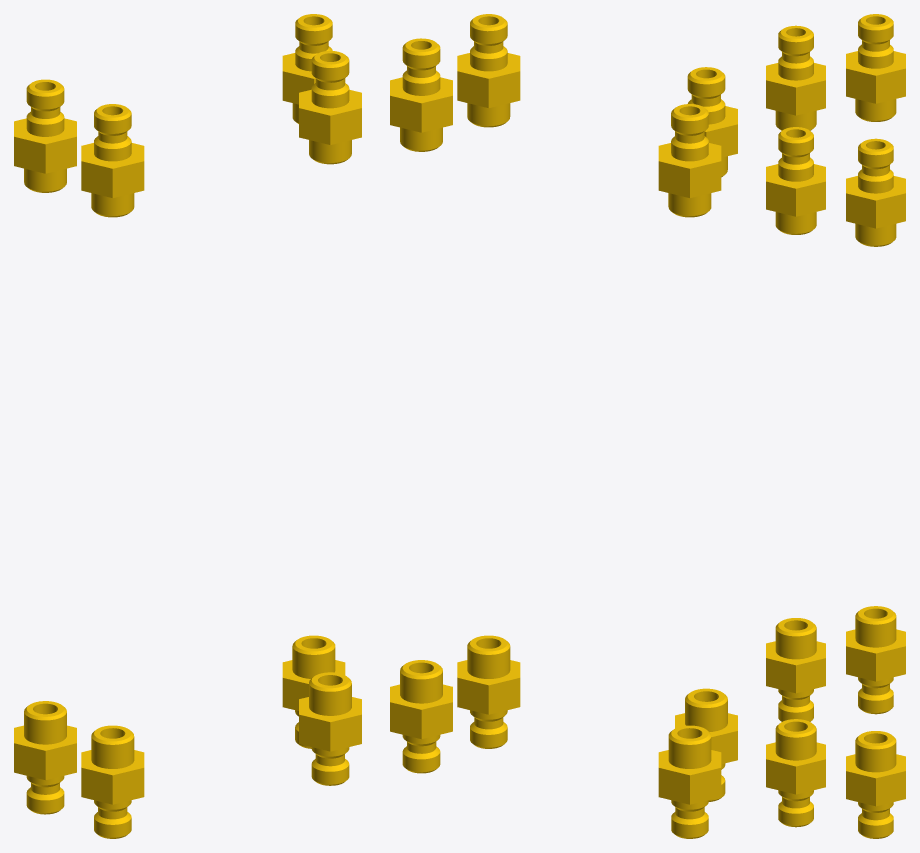
Rendered from connector.glb.
The picture shows the model from 3 angles, left to right: view 1: azimuth 30°, elevation 25°; view 2: azimuth 150°, elevation 25°; view 3: azimuth 270°, elevation 25°; orthographic projection. The views are drawn at different scales.
Visible parts, largest first — view 1: Button_connector_078 (×2), Button_connector_079 (×2), Button_connector_080 (×2), Button_connector_081 (×2); view 2: Button_connector_080 (×2), Button_connector_081 (×2), Button_connector_079 (×2), Button_connector_078 (×2); view 3: Button_connector_081 (×2), Button_connector_080 (×2), Button_connector_078 (×2), Button_connector_079 (×2).
Part boxes in pixels (x1=…): Button_connector_078 (×2): x1=81, y1=672, x2=361, y2=838; Button_connector_079 (×2): x1=81, y1=51, x2=361, y2=217; Button_connector_080 (×2): x1=14, y1=635, x2=345, y2=814; Button_connector_081 (×2): x1=14, y1=14, x2=345, y2=192; Button_connector_080 (×2): x1=390, y1=660, x2=721, y2=838; Button_connector_081 (×2): x1=390, y1=38, x2=721, y2=217; Button_connector_079 (×2): x1=457, y1=14, x2=737, y2=177; Button_connector_078 (×2): x1=457, y1=635, x2=737, y2=801; Button_connector_081 (×2): x1=846, y1=14, x2=905, y2=246; Button_connector_080 (×2): x1=846, y1=606, x2=905, y2=838; Button_connector_078 (×2): x1=766, y1=618, x2=825, y2=827; Button_connector_079 (×2): x1=766, y1=25, x2=825, y2=234.
Bounding box in the file's own units: 0.0913 × 0.19 × 0.035.
